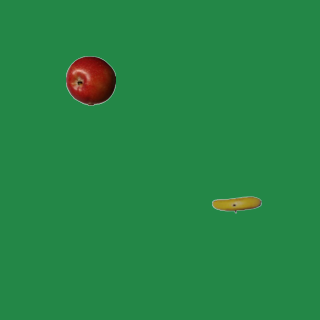Apple Braeburn: (65, 55, 115, 105)
Banana: (211, 179, 261, 229)
